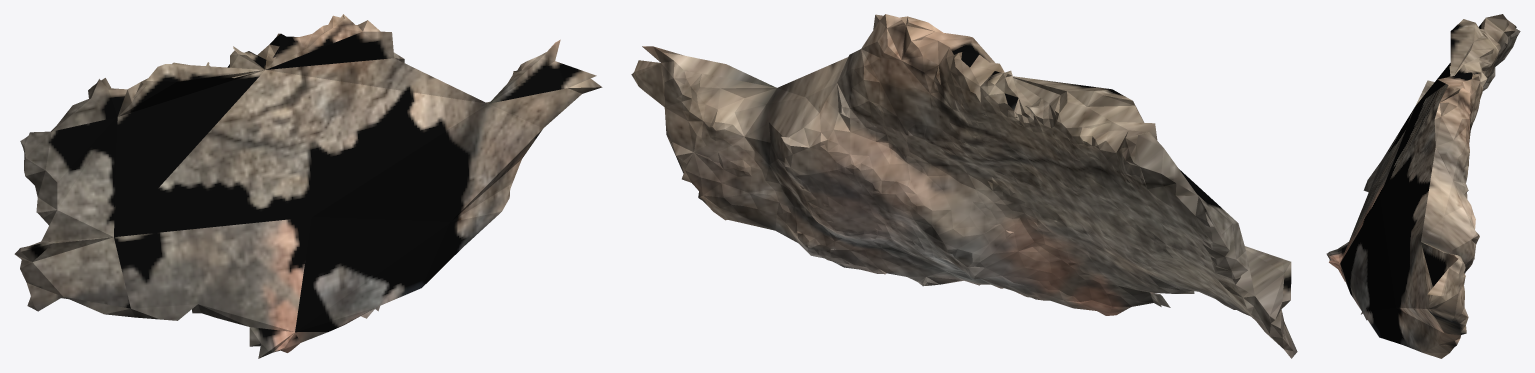
3 renders of one model, left to right at view 1: azimuth 30°, elevation 25°; view 2: azimuth 150°, elevation 25°; view 3: azimuth 270°, elevation 25°, orthographic. The views are drawn at different scales.
Parts seen in each view (by area): view 1: TexturedMesh; view 2: TexturedMesh; view 3: TexturedMesh.
Part boxes in pixels (x1=…): TexturedMesh: x1=14, y1=14, x2=602, y2=358; TexturedMesh: x1=631, y1=14, x2=1297, y2=358; TexturedMesh: x1=1326, y1=14, x2=1520, y2=358.
Bounding box in the file's own units: 0.682 × 0.3058 × 0.2183.
Materials: 1 (1 with a texture image).
